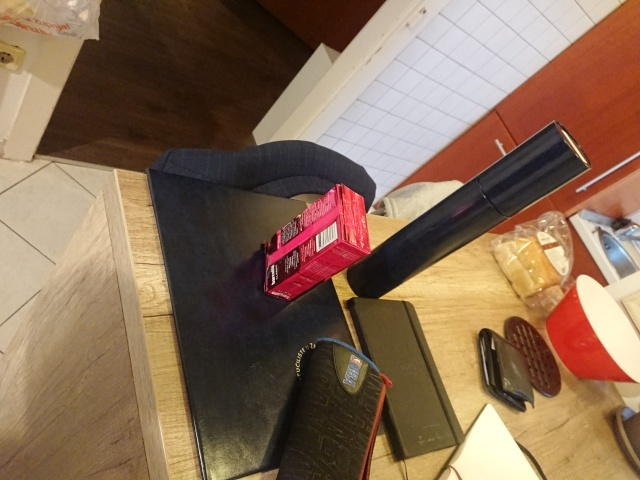Barcaffe Classic Original 225g: (260, 182, 374, 304)
